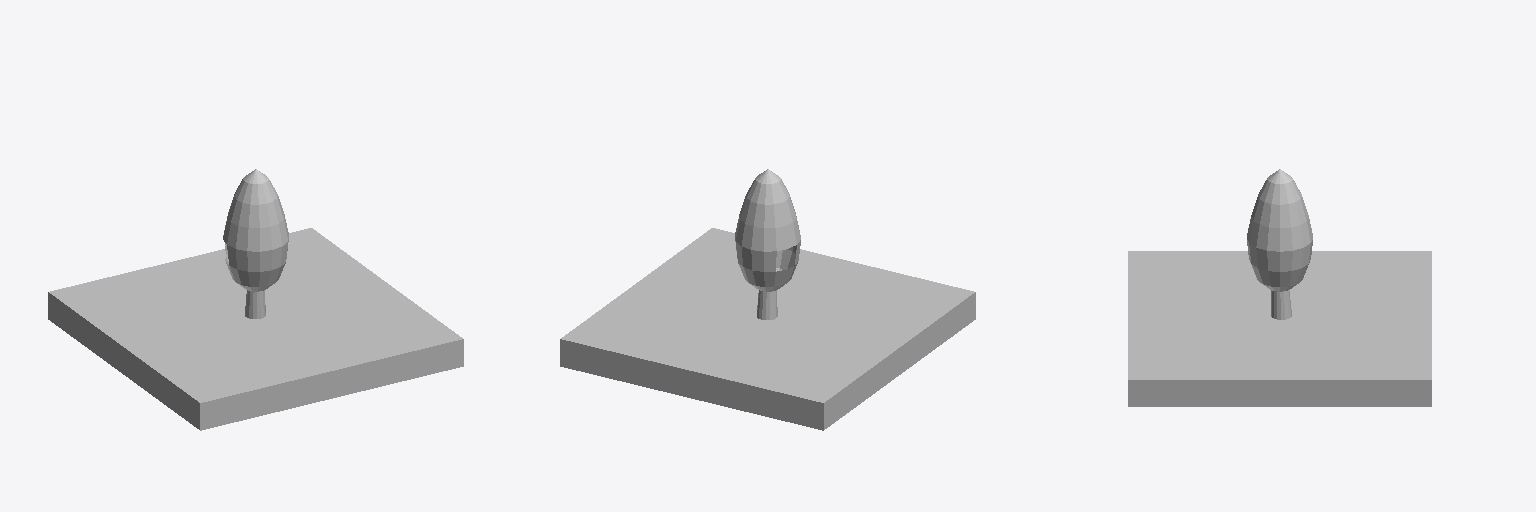
Rendered from Sapling.obj.
The picture shows the model from 3 angles: view 1: azimuth 30°, elevation 25°; view 2: azimuth 150°, elevation 25°; view 3: azimuth 270°, elevation 25°; orthographic projection.
Parts seen in each view (by area): view 1: cube1; view 2: cube1; view 3: cube1.
Part boxes in pixels (bbox=[...]): cube1: bbox=[48, 169, 463, 430]; cube1: bbox=[560, 169, 975, 430]; cube1: bbox=[1128, 169, 1431, 406].
Bounding box in the file's own units: 1 × 0.6315 × 1.